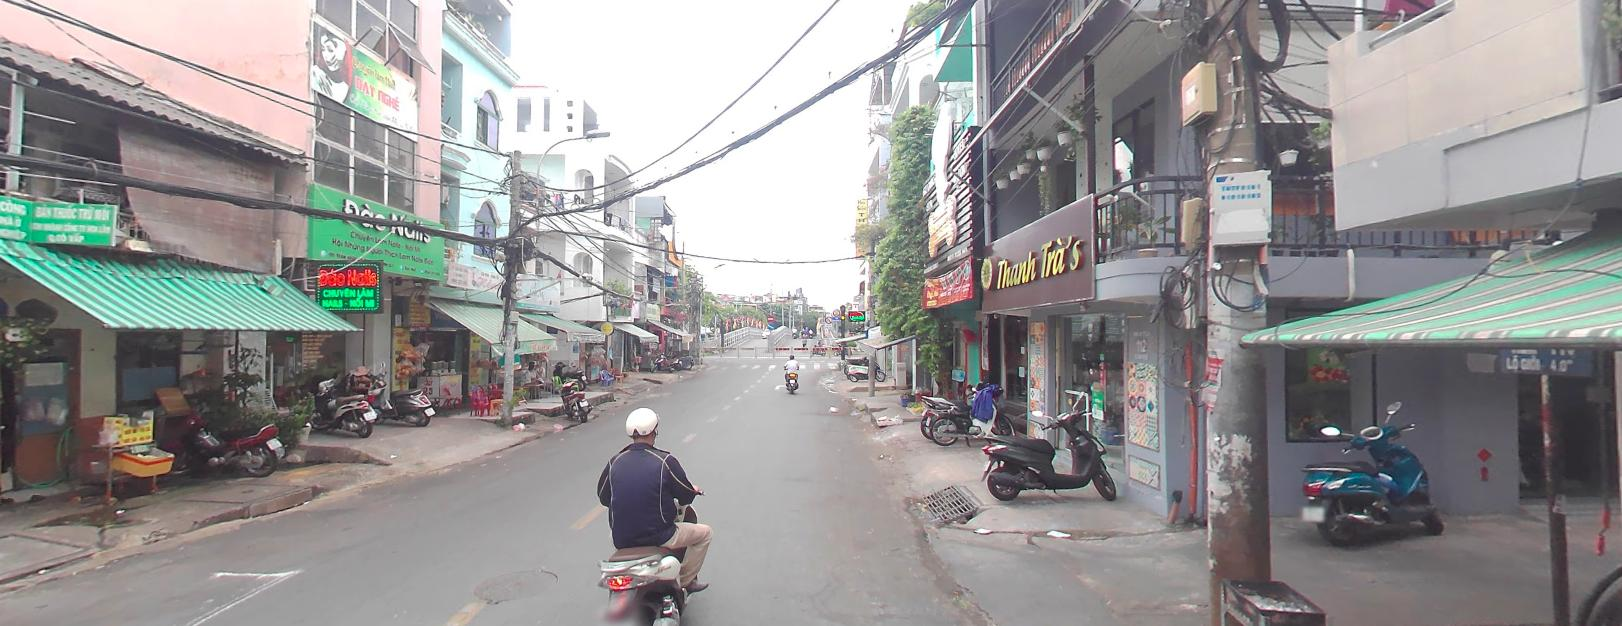Cam con lai: (832, 307, 840, 314), (825, 315, 831, 322)
Cam nguoc chieu: (766, 313, 774, 320)
Hieu lenh: (766, 321, 773, 328)
